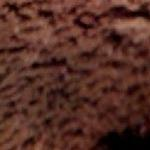alive: (5, 2, 148, 148)
